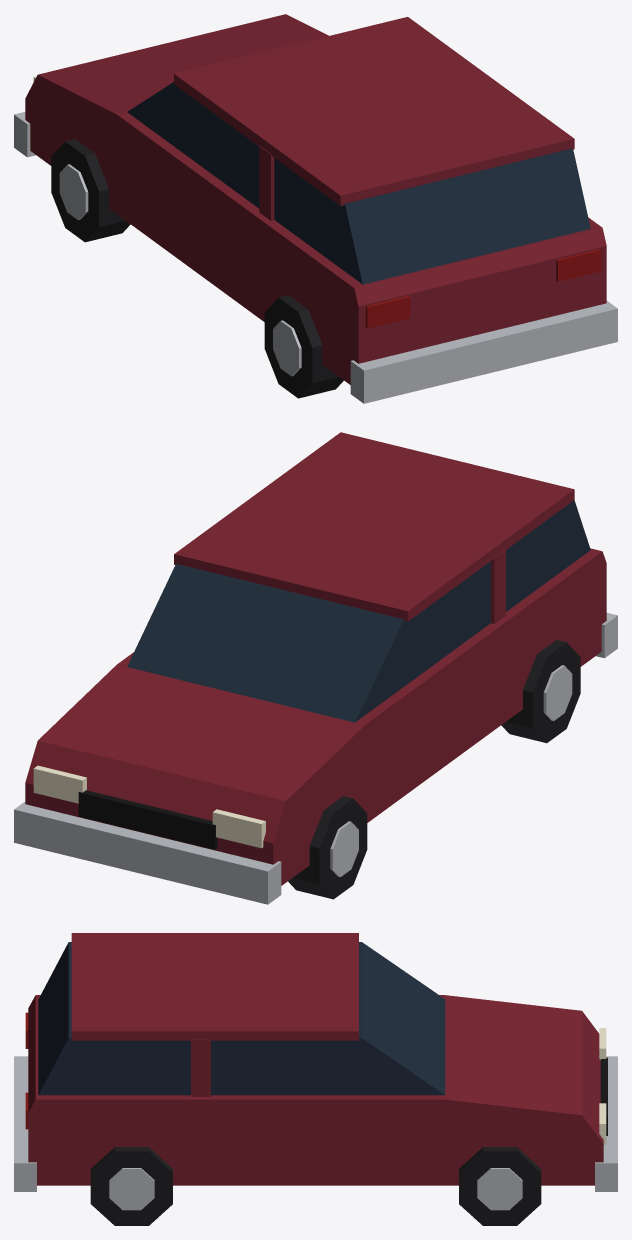
Rendered from CarHatchMaroon.obj.
3 views of the same model, one above another, from view 1: azimuth 30°, elevation 25°; view 2: azimuth 150°, elevation 25°; view 3: azimuth 270°, elevation 25° (orthographic). The views are drawn at different scales.
Visible parts, largest first — view 1: CarHatchMaroon; view 2: CarHatchMaroon; view 3: CarHatchMaroon.
Boxes of the visible parts, x1,y1,x2,y2 form: CarHatchMaroon: (14, 14, 617, 403); CarHatchMaroon: (14, 432, 617, 904); CarHatchMaroon: (14, 933, 617, 1225).
Size of the model in its own units: 1.89 by 1.44 by 4.2.
1 material, 1 textured.
